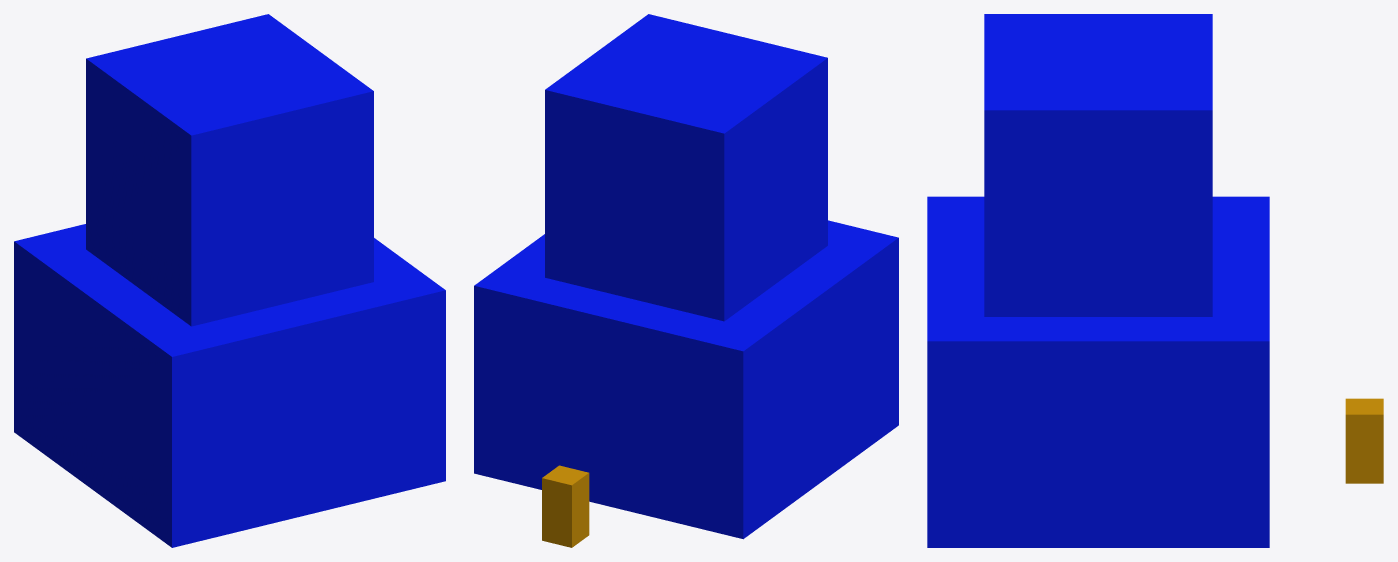
The model's file is PoseidonScale.fbx.
3 renders of one model, left to right at view 1: azimuth 30°, elevation 25°; view 2: azimuth 150°, elevation 25°; view 3: azimuth 270°, elevation 25°, orthographic. The views are drawn at different scales.
Visible parts, largest first — view 1: Lower_Body, Head; view 2: Lower_Body, Head, Player; view 3: Lower_Body, Head, Player.
Part boxes in pixels (x1,y1,x2,y2): Lower_Body: (14,224,445,547); Head: (86,14,373,326); Lower_Body: (474,220,898,539); Head: (545,14,827,321); Player: (542,465,589,547); Lower_Body: (927,196,1269,547); Head: (984,14,1212,316); Player: (1345,398,1383,483).
Size of what is drawn, in the model's own units: 900 by 1200 by 1200.
